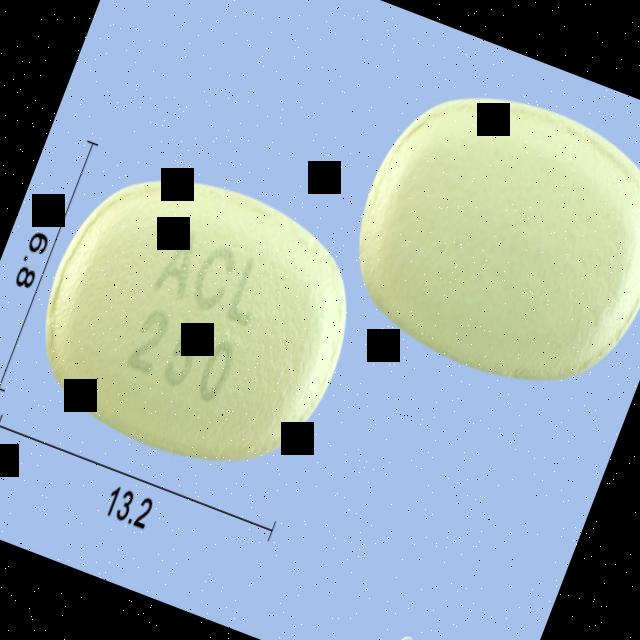Clorid: (9, 142, 384, 500)
